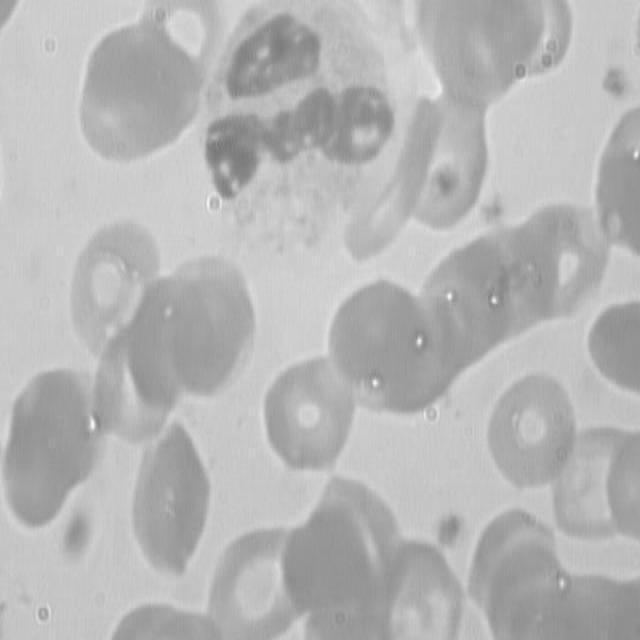Platelets: (433, 507, 470, 553), (597, 59, 634, 105), (479, 187, 516, 233)
RBC: (122, 413, 226, 584), (62, 212, 166, 383), (70, 20, 174, 191), (116, 0, 220, 171), (0, 371, 104, 541), (254, 344, 367, 487), (471, 360, 584, 503), (404, 76, 489, 243), (326, 265, 425, 408), (161, 256, 260, 399), (541, 412, 639, 555), (196, 524, 316, 639), (380, 280, 467, 420), (414, 246, 501, 386), (450, 218, 537, 358), (524, 192, 611, 332), (350, 546, 478, 638), (466, 510, 577, 614)
WBC: (199, 0, 410, 256)
